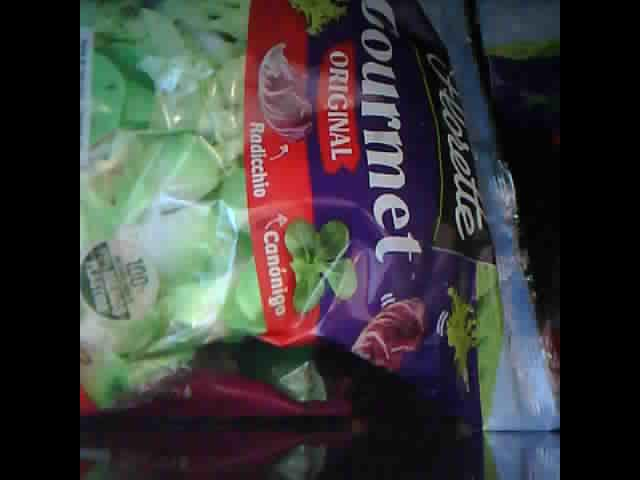florette: (81, 2, 560, 436)
